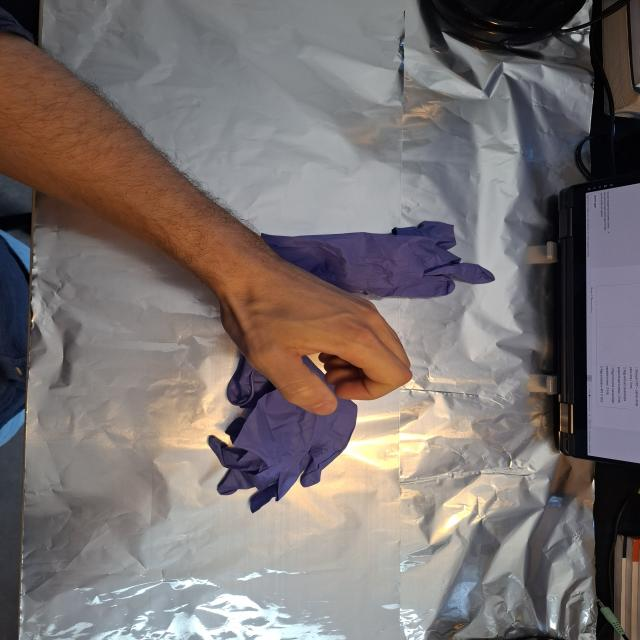glove_off: (215, 252, 417, 418)
